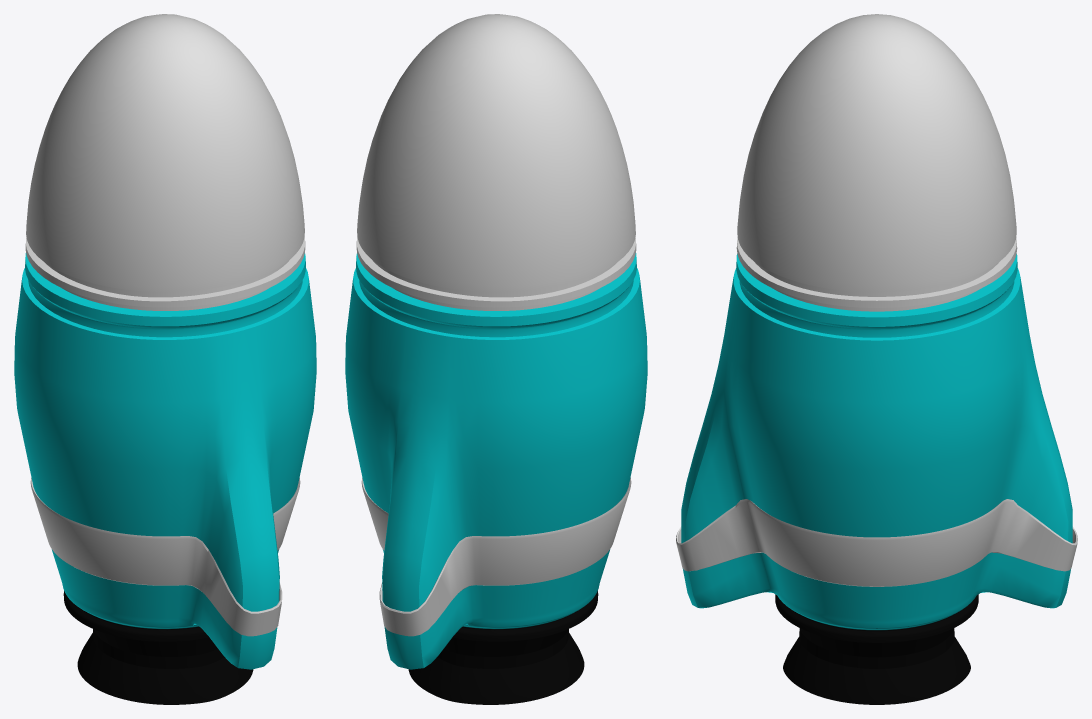
The model's file is SboxRocket.fbx.
The picture shows the model from 3 angles, left to right: view 1: azimuth 30°, elevation 25°; view 2: azimuth 150°, elevation 25°; view 3: azimuth 270°, elevation 25°; orthographic projection.
Visible parts, largest first — view 1: Body_low, Warhead_low, LowerPlate_low; view 2: Body_low, Warhead_low, LowerPlate_low; view 3: Body_low, Warhead_low, LowerPlate_low.
Part boxes in pixels (x1,y1,x2,y2): Body_low: (14, 253, 316, 704); Warhead_low: (25, 14, 305, 310); LowerPlate_low: (30, 477, 300, 636); Body_low: (345, 253, 647, 704); Warhead_low: (356, 14, 636, 310); LowerPlate_low: (361, 477, 631, 636); Body_low: (681, 254, 1072, 704); Warhead_low: (736, 14, 1017, 311); LowerPlate_low: (676, 499, 1077, 586).
Size of the model in its own units: 54.82 by 129 by 72.69.
